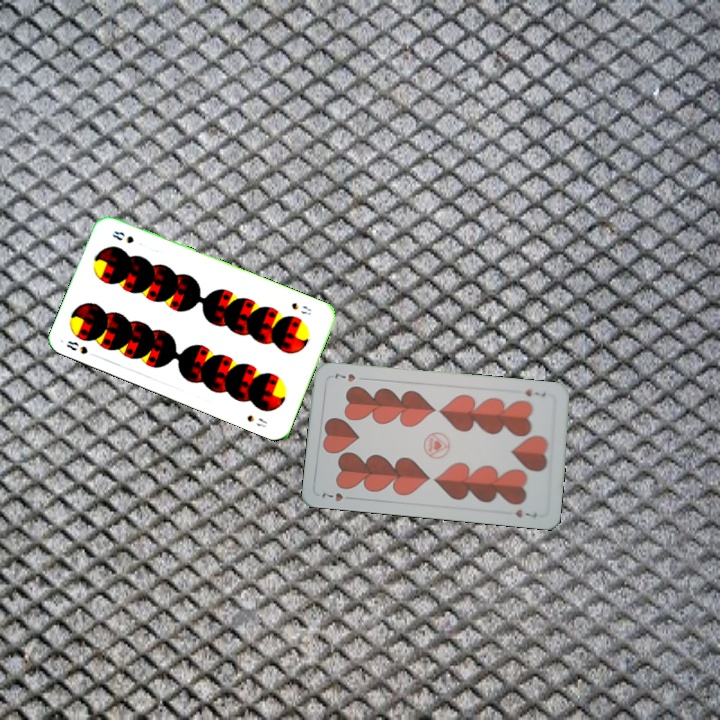H7: (318, 488, 357, 504), (521, 384, 548, 399)
S8: (62, 336, 100, 360), (287, 298, 314, 318)
